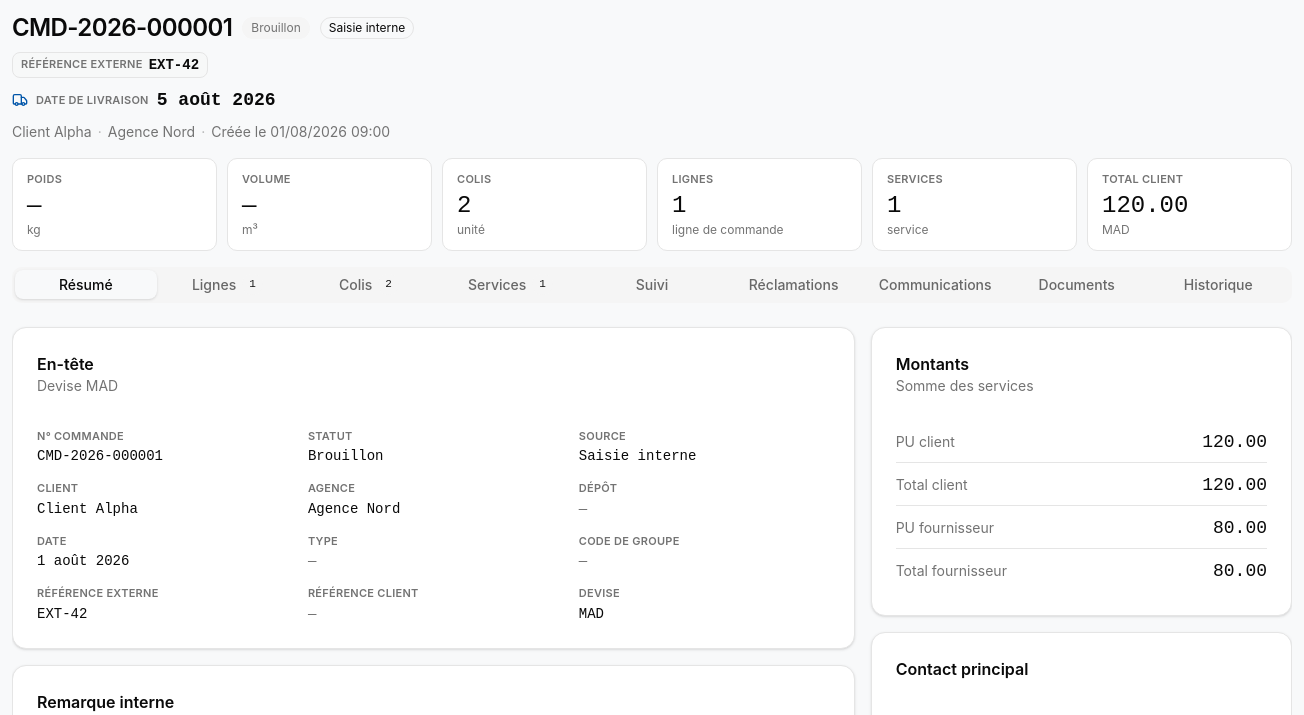
Test: parcours d’une commande › montre les étapes à venir, pas seulement celles franchies
The width and height of the screenshot is (1304, 715).
Click the tab "Suivi".
click(652, 284)  # box [581,270,723,299]
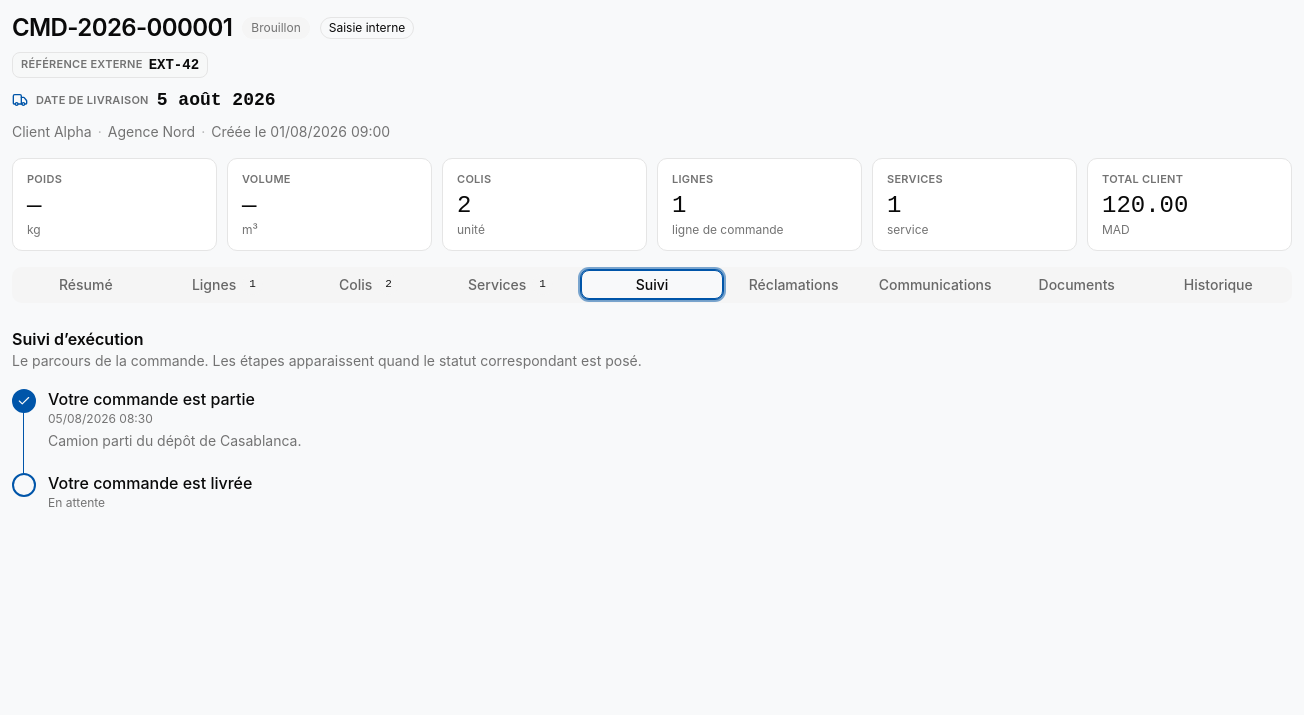
Now the text "Votre commande est partie" is shown, box [48,388,255,408]
Now the text "Votre commande est livrée" is shown, box [48,472,252,492]
Now the text "En attente" is shown, box [48,494,105,510]
